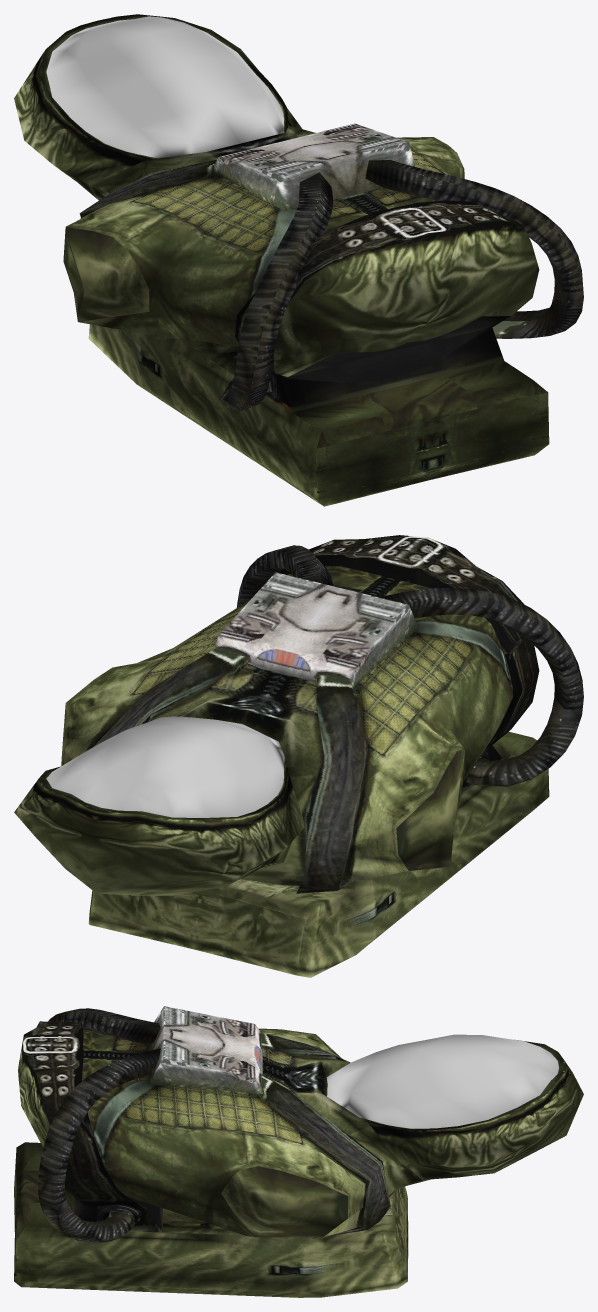
File: scientist_suit.fbx
3 views of the same model, one above another, from view 1: azimuth 30°, elevation 25°; view 2: azimuth 150°, elevation 25°; view 3: azimuth 270°, elevation 25° (orthographic). The views are drawn at different scales.
Visible parts, largest first — view 1: 0, 1; view 2: 0, 1; view 3: 0, 1.
Part boxes in pixels (box(x1,y1,x2,y2)): 0: box(14, 14, 583, 506); 1: box(46, 16, 284, 158); 0: box(14, 535, 583, 977); 1: box(46, 716, 284, 817); 0: box(14, 1006, 583, 1297); 1: box(326, 1034, 558, 1128).
Bounding box in the file's own units: 0.4313 × 0.3019 × 0.7013.
